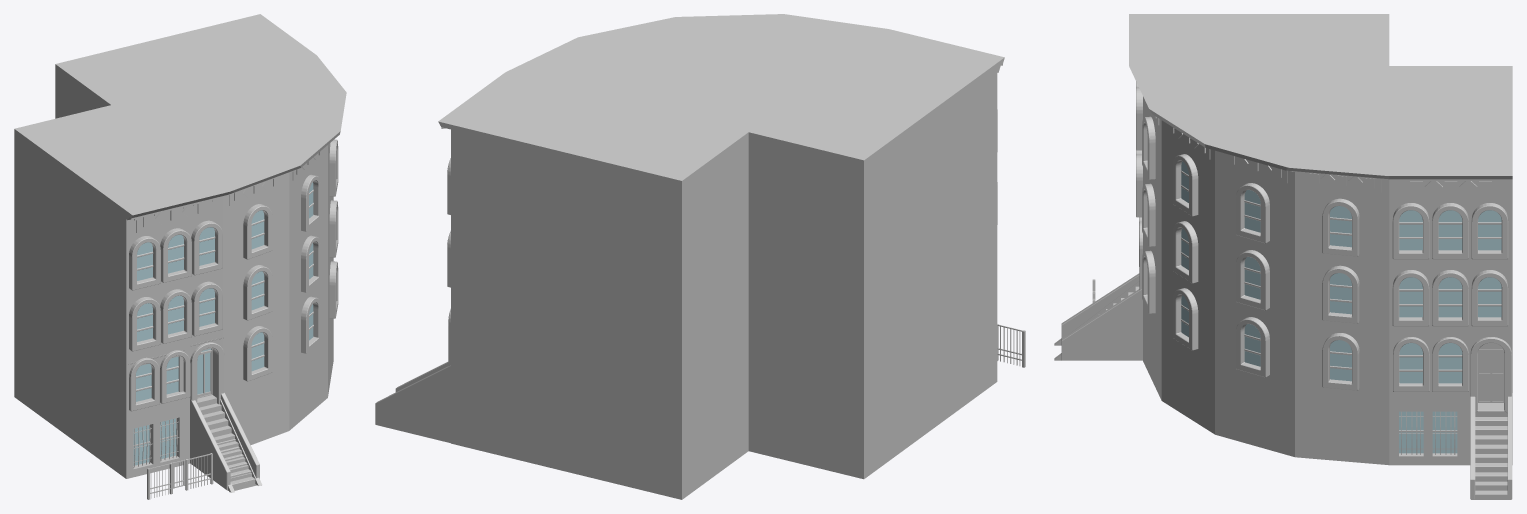
File: house_04.fbx
The picture shows the model from 3 angles, left to right: view 1: azimuth 30°, elevation 25°; view 2: azimuth 150°, elevation 25°; view 3: azimuth 270°, elevation 25°; orthographic projection. The views are drawn at different scales.
Parts seen in each view (by area): view 1: house_zone4_4, house_zone4_5, house_zone4_2, house_zone4_fence.001; view 2: house_zone4_4, house_zone4_5, house_zone4_2, house_zone4_fence.001; view 3: house_zone4_4, house_zone4_5.
Part boxes in pixels (left/top/right/bottom): house_zone4_4: left=14, top=14, right=346, bottom=444; house_zone4_5: left=14, top=129, right=259, bottom=490; house_zone4_2: left=14, top=135, right=262, bottom=492; house_zone4_fence.001: left=147, top=453, right=213, bottom=499; house_zone4_4: left=375, top=14, right=1004, bottom=499; house_zone4_5: left=748, top=57, right=1004, bottom=479; house_zone4_2: left=748, top=65, right=1000, bottom=405; house_zone4_fence.001: left=997, top=324, right=1025, bottom=367; house_zone4_4: left=1129, top=14, right=1512, bottom=499; house_zone4_5: left=1061, top=81, right=1142, bottom=360.
Bounding box in the file's own units: 18.34 × 13.4 × 18.59.
